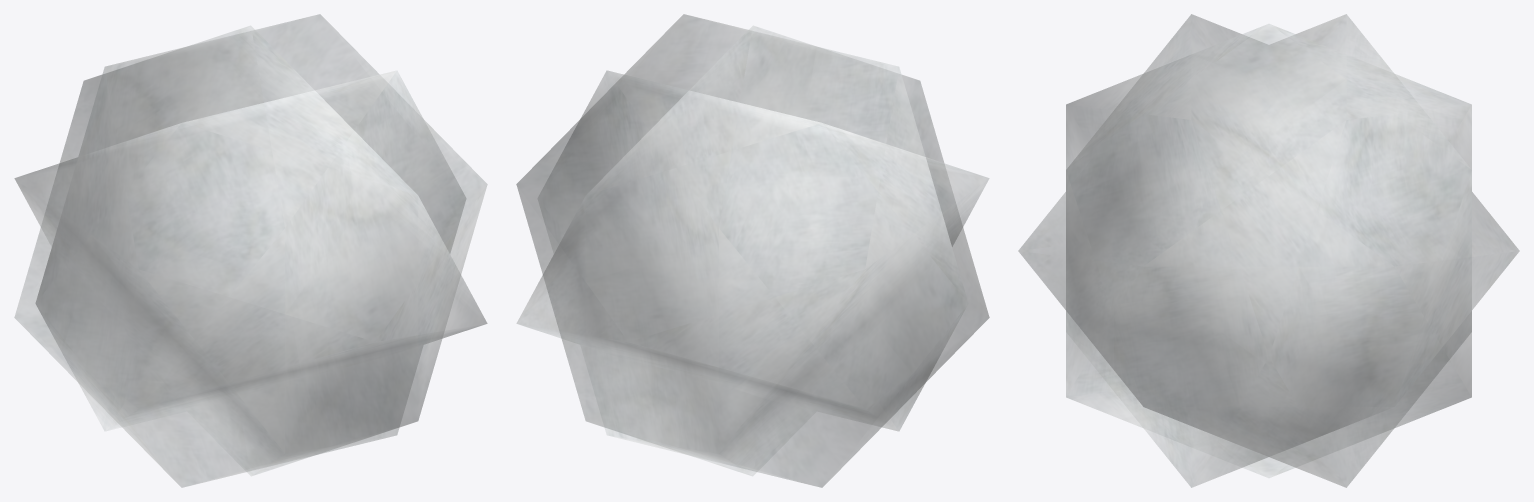
File: DodecadodecahedronA.gltf
The picture shows the model from 3 angles, left to right: view 1: azimuth 30°, elevation 25°; view 2: azimuth 150°, elevation 25°; view 3: azimuth 270°, elevation 25°; orthographic projection.
Visible parts, largest first — view 1: Dodecadodecahedron; view 2: Dodecadodecahedron; view 3: Dodecadodecahedron.
Boxes of the visible parts, x1,y1,x2,y2 form: Dodecadodecahedron: [14, 14, 487, 487]; Dodecadodecahedron: [516, 14, 989, 487]; Dodecadodecahedron: [1018, 14, 1519, 487].
Bounding box in the file's own units: 2 × 2 × 2.
1 material, 1 textured.
